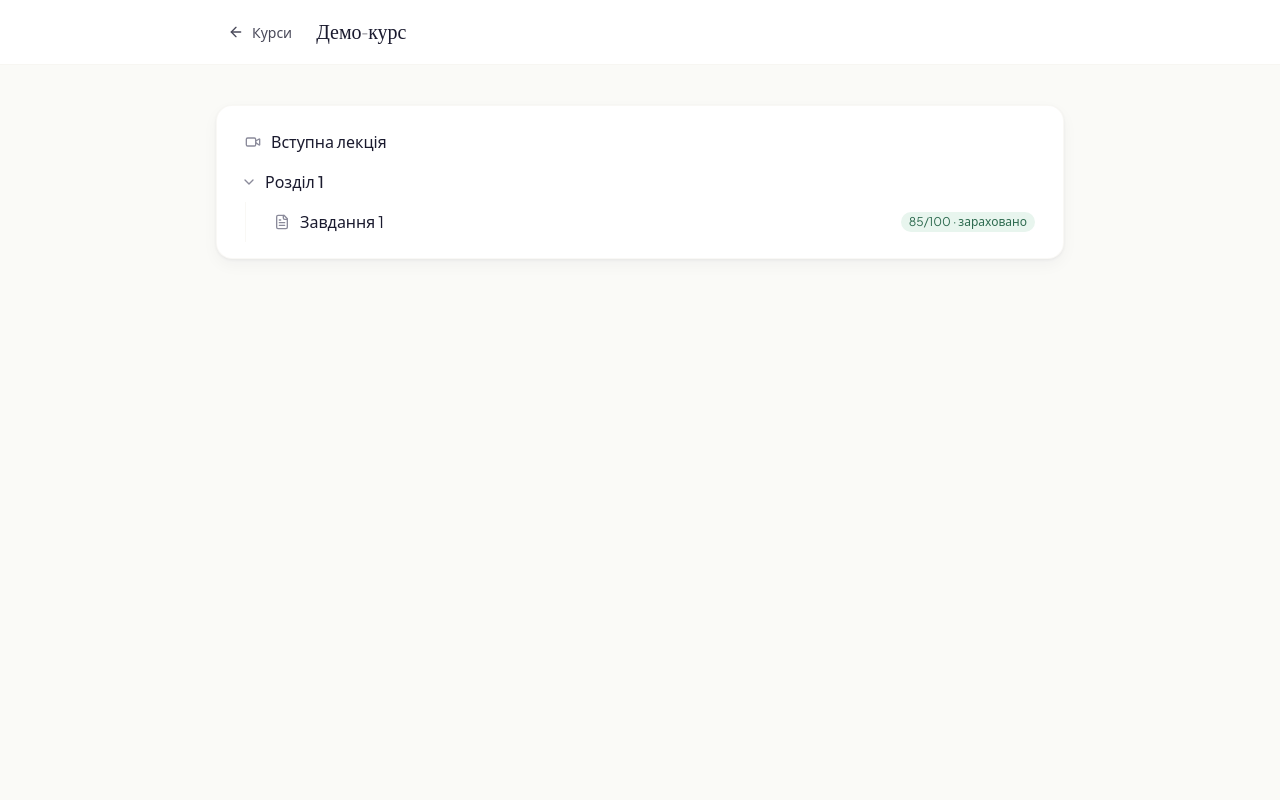
PortalCoursePage › opens the material panel on click and renders the descriptor
Check: the text "Вступна лекція" is shown, box x1=271 y1=131 x2=387 y2=152
Click the button "Вступна лекція".
click(329, 142)  # box x1=233 y1=122 x2=1047 y2=162
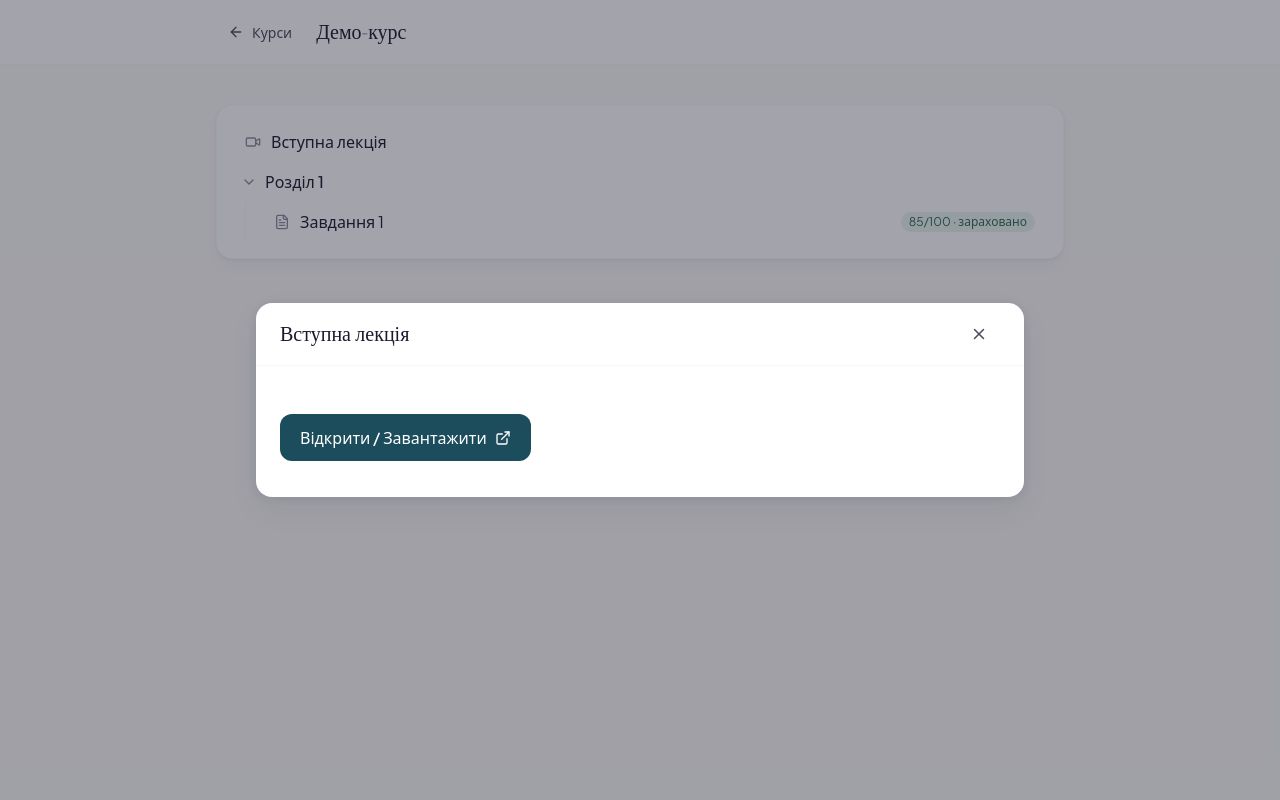
Check: the link "Відкрити / Завантажити" is shown, box x1=280 y1=414 x2=531 y2=461
